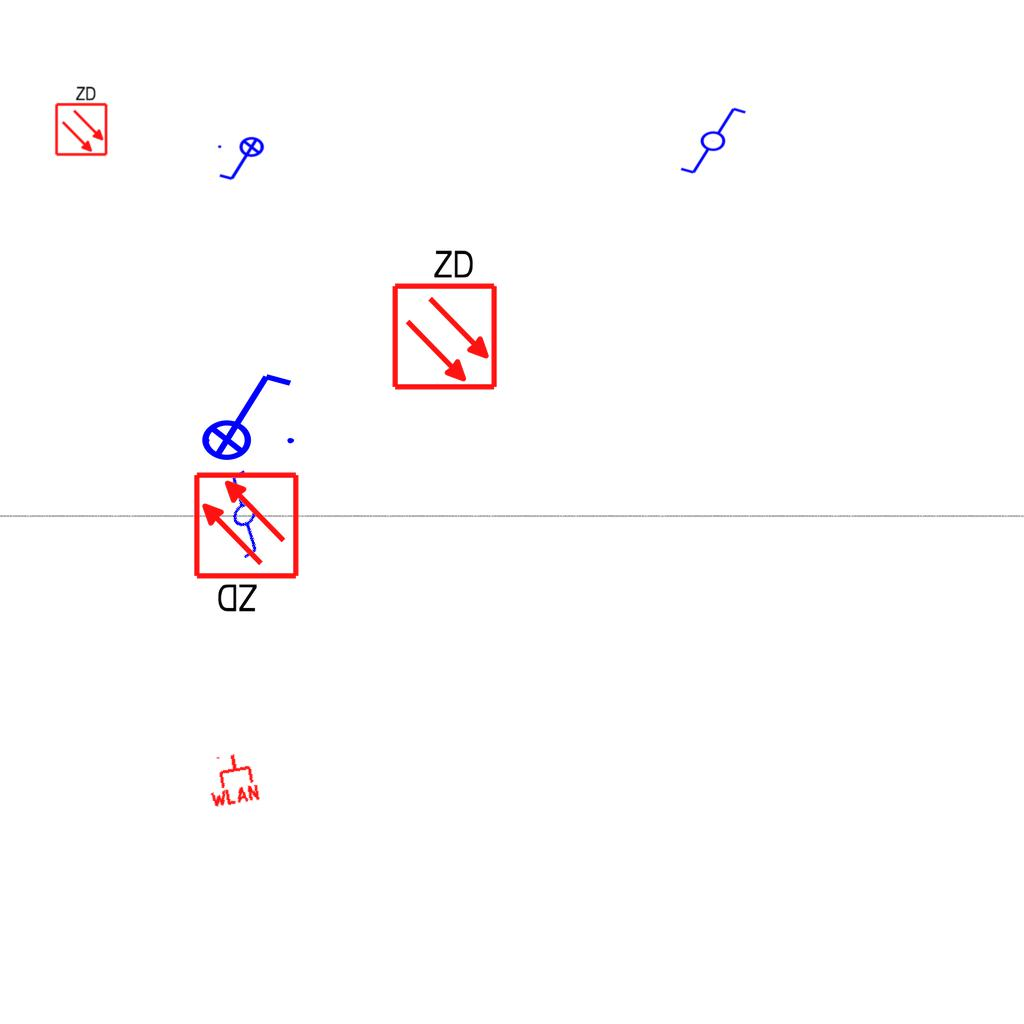Ausschalter_beleuchtet: (188, 366, 300, 462), (215, 136, 271, 184)
WLAN: (201, 748, 263, 810)
Wechselschalter: (188, 463, 294, 571), (670, 104, 748, 176)
ZD_Melder_in_Zwischendecke_mit_Revisionsoeffnung_mind_40_x_40_cm: (386, 243, 500, 392), (191, 470, 305, 619), (52, 83, 109, 157)
